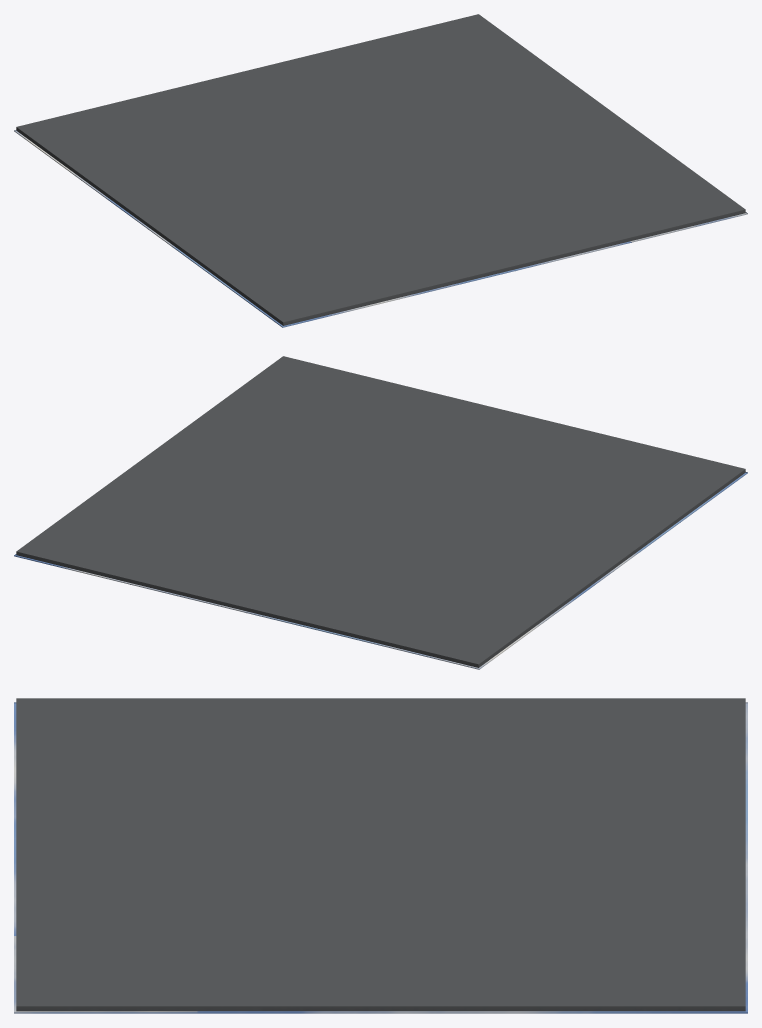
Rendered from sky_ceiling.fbx.
3 views of the same model, one above another, from view 1: azimuth 30°, elevation 25°; view 2: azimuth 150°, elevation 25°; view 3: azimuth 270°, elevation 25° (orthographic). The views are drawn at different scales.
Visible parts, largest first — view 1: Body; view 2: Body; view 3: Body.
Boxes of the visible parts, x1,y1,x2,y2 form: Body: (14, 14, 747, 327); Body: (14, 356, 747, 669); Body: (14, 698, 747, 1013).
Size of the model in its own units: 32 by 0.309 by 32.
1 material, 1 textured.
